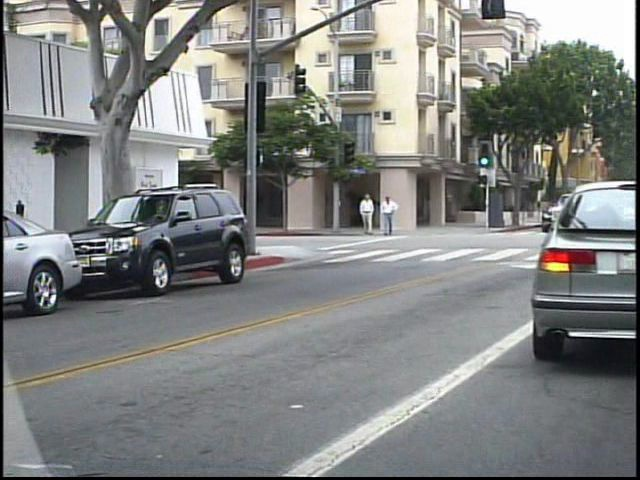person: (354, 192, 374, 243), (375, 193, 396, 239)
